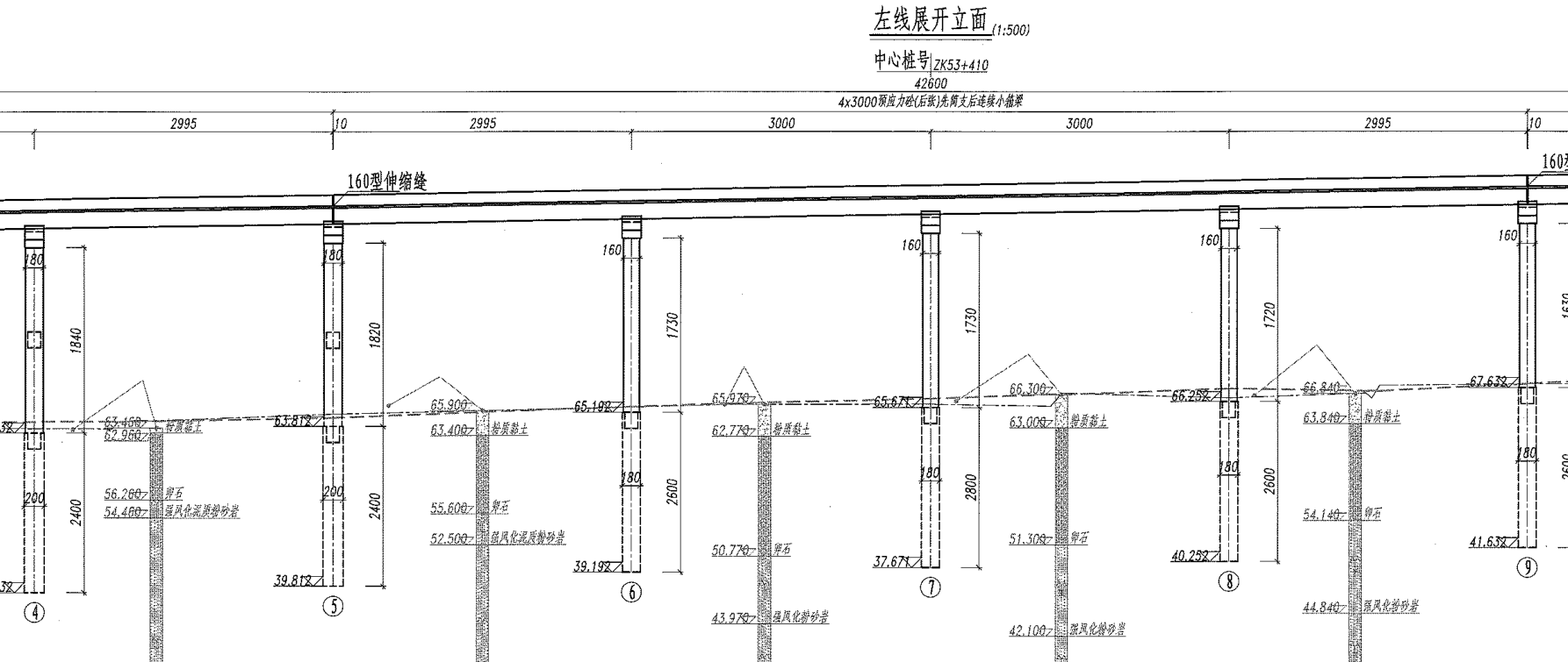A: (5, 77, 1568, 100)
B: (326, 90, 1536, 119)
C: (1158, 200, 1266, 605), (860, 203, 965, 596), (270, 211, 350, 620), (566, 205, 645, 613), (1159, 203, 1261, 500), (1468, 198, 1545, 587), (861, 204, 962, 485), (4, 221, 65, 627)
